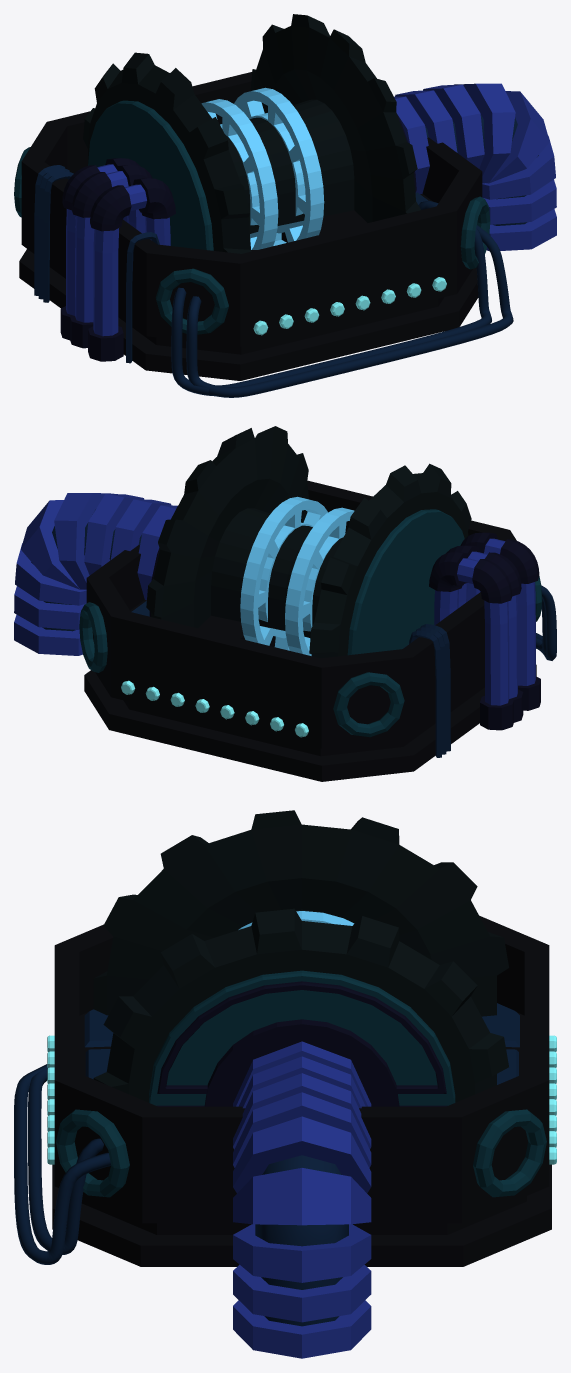
Rendered from st3_switch_down.fbx.
The picture shows the model from 3 angles, top to bottom: view 1: azimuth 30°, elevation 25°; view 2: azimuth 150°, elevation 25°; view 3: azimuth 270°, elevation 25°; orthographic projection. The views are drawn at different scales.
Parts seen in each view (by area): view 1: 3_bottom_main, 3_bottom_cylinder1, 3_bottom_pipe3_etc, 3_bottom_gear2, 3_bottom_pipe, 3_bottom_cylinder3, 3_bottom_pipe1, 3_bottom_ring, 3_bottom_pipe2, 3_bottom_pipe1_etc1, 3_bottom_pipe1_etc3, 3_bottom_pipe1_etc2 (+1 smaller); view 2: 3_bottom_main, 3_bottom_cylinder1, 3_bottom_pipe3_etc, 3_bottom_cylinder3, 3_bottom_gear2, 3_bottom_pipe1, 3_bottom_ring, 3_bottom_pipe1_etc1, 3_bottom_pipe2, 3_bottom_pipe1_etc2, 3_bottom_pipe1_etc3, 3_bottom_button2 (+1 smaller); view 3: 3_bottom_cylinder1, 3_bottom_main, 3_bottom_pipe3_etc, 3_bottom_cylinder3, 3_bottom_pipe, 3_bottom_ring, 3_bottom_cylinder3_002, 3_bottom_cylinder3_001, 3_bottom_pipe3, 3_bottom_button2, 3_bottom_floor1, 3_bottom_floor2.
Boxes of the visible parts, x1,y1,x2,y2 form: 3_bottom_main: [19, 72, 482, 380]; 3_bottom_cylinder1: [83, 14, 420, 253]; 3_bottom_pipe3_etc: [394, 83, 556, 251]; 3_bottom_gear2: [201, 87, 324, 249]; 3_bottom_pipe: [171, 200, 513, 397]; 3_bottom_cylinder3: [88, 100, 213, 250]; 3_bottom_pipe1: [66, 164, 170, 336]; 3_bottom_ring: [14, 147, 490, 334]; 3_bottom_pipe2: [34, 165, 159, 363]; 3_bottom_pipe1_etc1: [62, 165, 131, 231]; 3_bottom_pipe1_etc3: [60, 306, 123, 361]; 3_bottom_pipe1_etc2: [105, 158, 175, 219]; 3_bottom_main: [84, 480, 536, 781]; 3_bottom_cylinder1: [146, 426, 471, 658]; 3_bottom_pipe3_etc: [14, 493, 177, 655]; 3_bottom_cylinder3: [347, 509, 464, 655]; 3_bottom_gear2: [240, 496, 354, 655]; 3_bottom_pipe1: [434, 538, 535, 705]; 3_bottom_ring: [79, 576, 542, 737]; 3_bottom_pipe1_etc1: [472, 539, 539, 603]; 3_bottom_pipe2: [409, 624, 450, 757]; 3_bottom_pipe1_etc2: [429, 532, 497, 591]; 3_bottom_pipe1_etc3: [480, 676, 540, 730]; 3_bottom_button2: [121, 680, 308, 737]; 3_bottom_cylinder1: [93, 810, 508, 1102]; 3_bottom_main: [52, 915, 551, 1266]; 3_bottom_pipe3_etc: [233, 1041, 371, 1358]; 3_bottom_cylinder3: [149, 970, 455, 1105]; 3_bottom_pipe: [14, 1064, 110, 1264]; 3_bottom_ring: [56, 1109, 546, 1197]; 3_bottom_cylinder3_002: [204, 1019, 399, 1106]; 3_bottom_cylinder3_001: [156, 981, 447, 1106]; 3_bottom_pipe3: [255, 1155, 348, 1326]; 3_bottom_button2: [47, 1035, 556, 1164]; 3_bottom_floor1: [84, 1003, 519, 1047]; 3_bottom_floor2: [85, 1049, 518, 1084].
Size of the model in its own units: 314 by 147 by 232.
